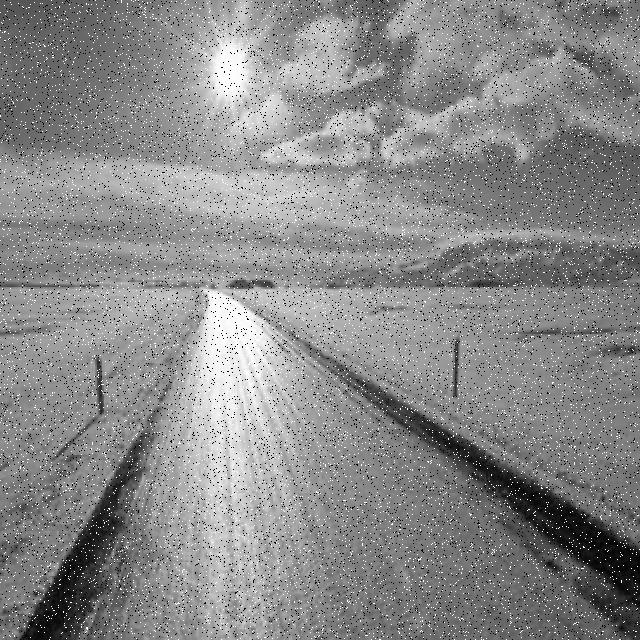ice-road: (28, 291, 640, 640)
